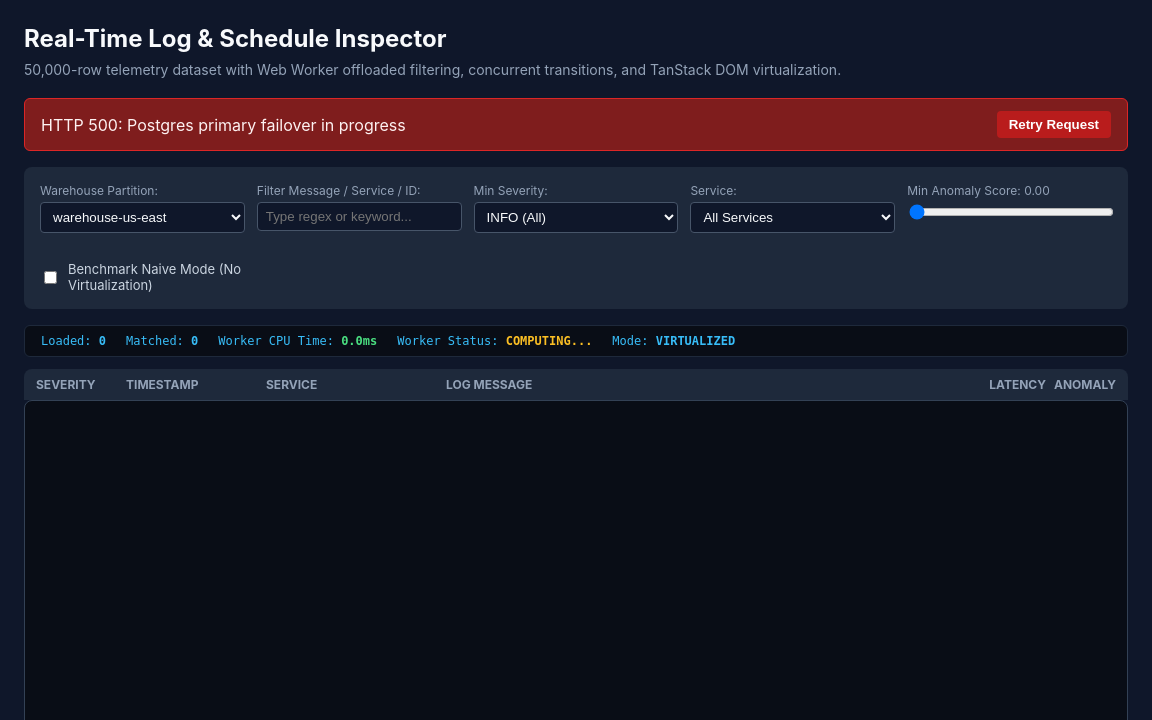
LogInspector Integration Tests (Real Wire with MSW v2) › handles HTTP 500 Internal Server Error and recovers via Retry button
The image size is (1152, 720).
Expected: the element with test id "error-banner" shows "HTTP 500: Postgres primary failover in progress", [41,114,406,134]
Click retry button
Click the button with test id "retry-button": (1054, 124) [997,111,1111,138]
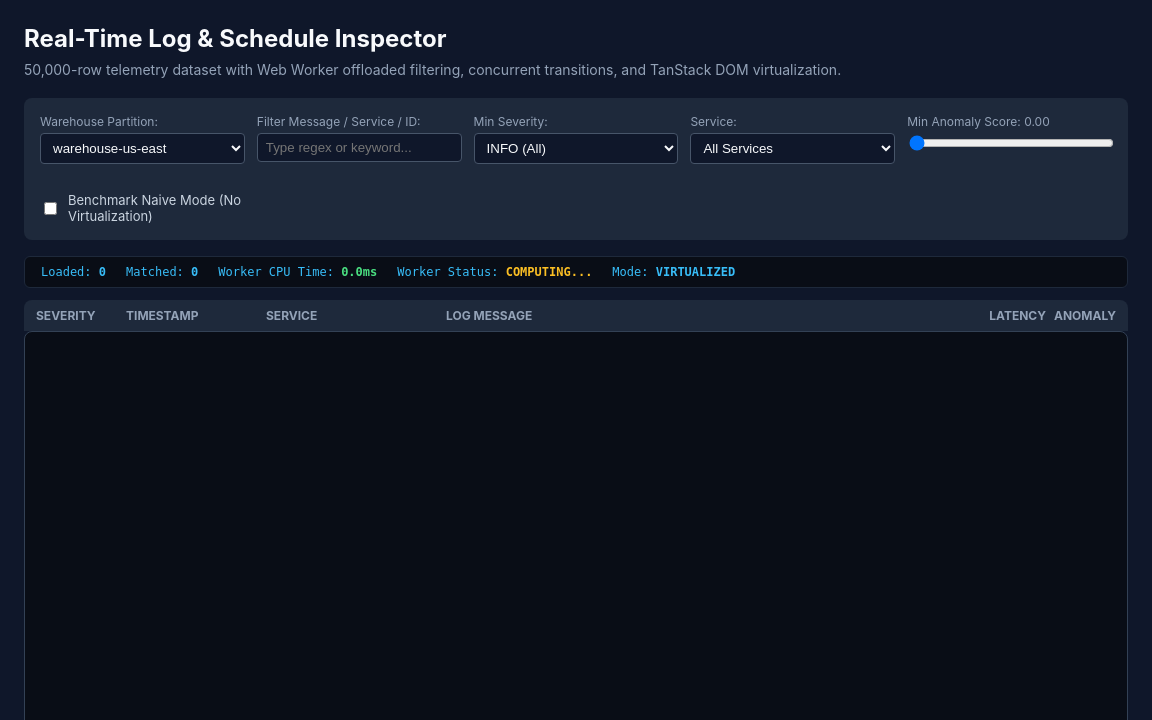
Result: the element with test id "error-banner" is gone
